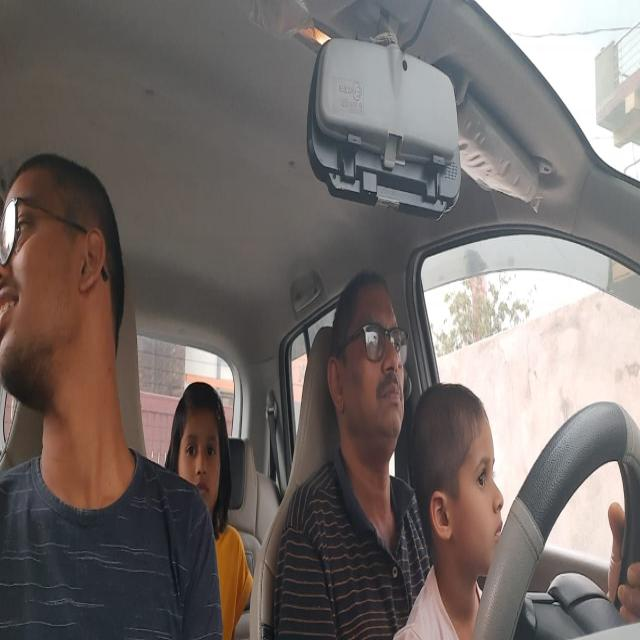child: (412, 373, 507, 581)
person: (0, 144, 127, 402), (326, 254, 411, 457), (163, 368, 231, 530)
